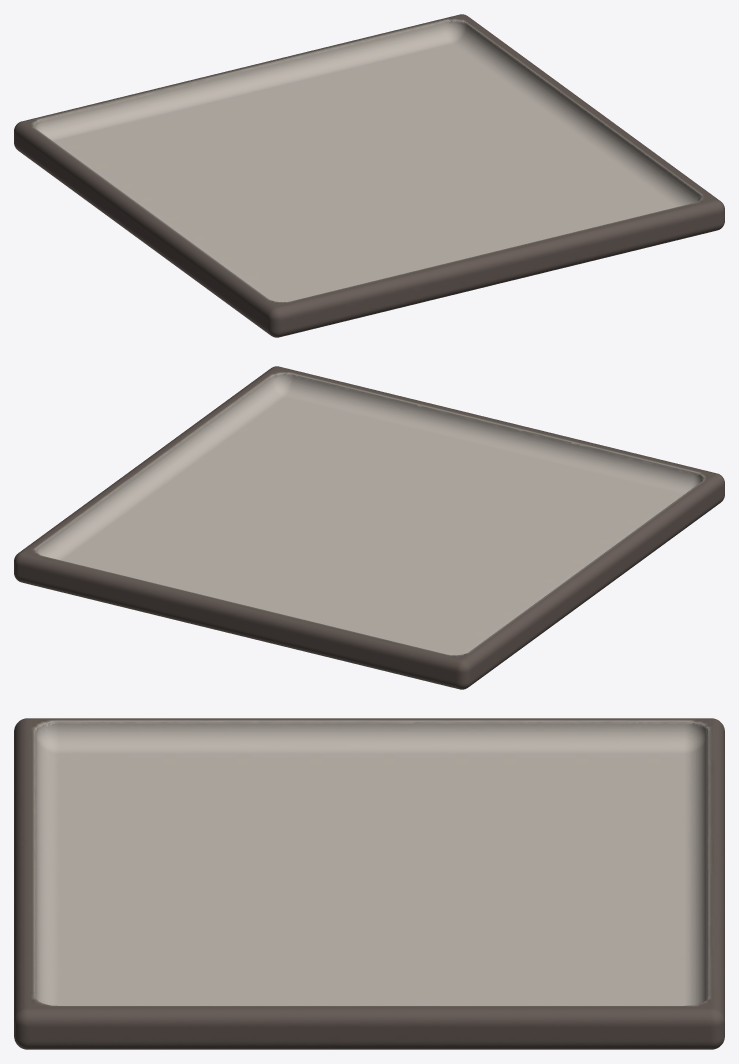
Rendered from tray-transformed.glb.
The picture shows the model from 3 angles, top to bottom: view 1: azimuth 30°, elevation 25°; view 2: azimuth 150°, elevation 25°; view 3: azimuth 270°, elevation 25°; orthographic projection. The views are drawn at different scales.
Visible parts, largest first — view 1: Area (2); view 2: Area (2); view 3: Area (2).
Part boxes in pixels (x1,y1,x2,y2): Area (2): [14, 14, 724, 337]; Area (2): [14, 366, 724, 689]; Area (2): [14, 718, 724, 1049].
Size of the model in its own units: 100 by 6.21 by 100.
Materials: 1 (1 with a texture image).
